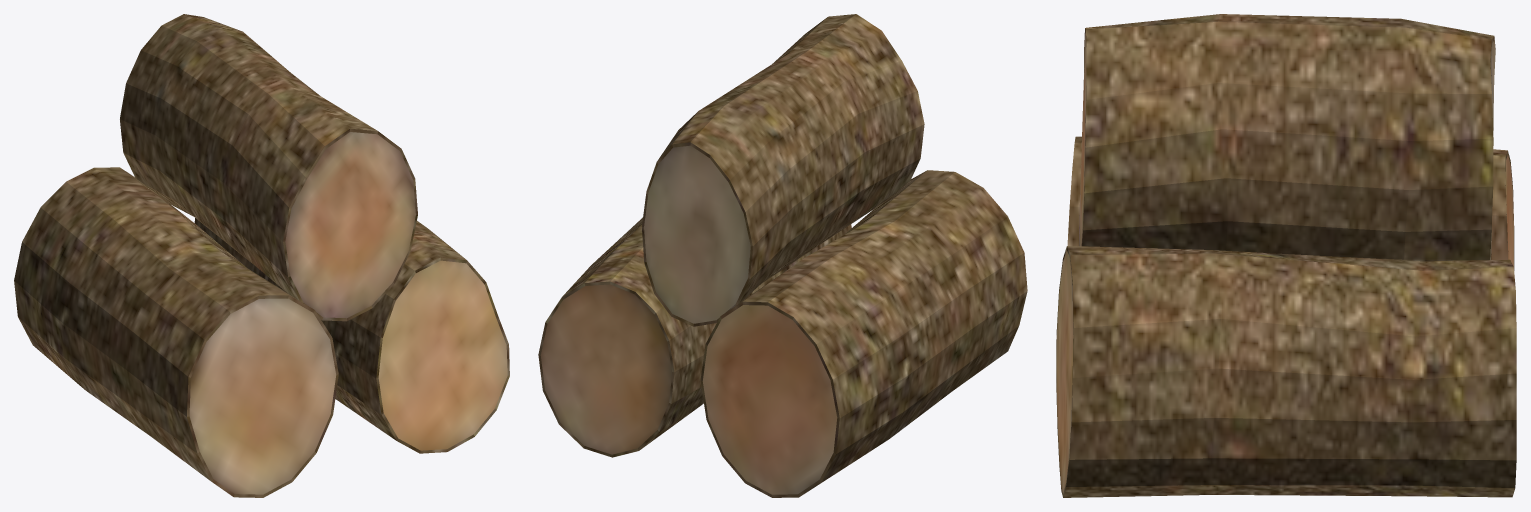
File: sh-scopia-wood-logs.glb
3 views of the same model, side by side, from view 1: azimuth 30°, elevation 25°; view 2: azimuth 150°, elevation 25°; view 3: azimuth 270°, elevation 25° (orthographic). The views are drawn at different scales.
Visible parts, largest first — view 1: Cylinder.002; view 2: Cylinder.002; view 3: Cylinder.002.
Part boxes in pixels (<box>): Cylinder.002: <box>14,14,509,497</box>; Cylinder.002: <box>538,14,1027,497</box>; Cylinder.002: <box>1056,14,1516,497</box>.
Bounding box in the file's own units: 1 × 1 × 1.
1 material, 1 textured.
